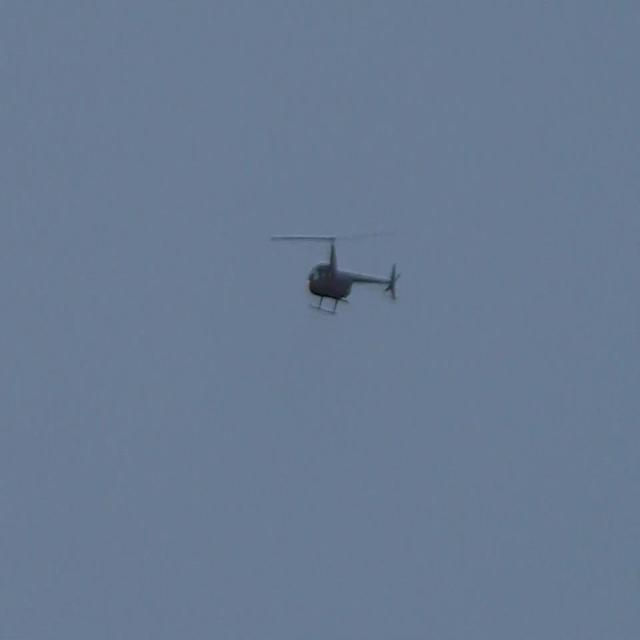CIV_HELO: (307, 236, 401, 316)
